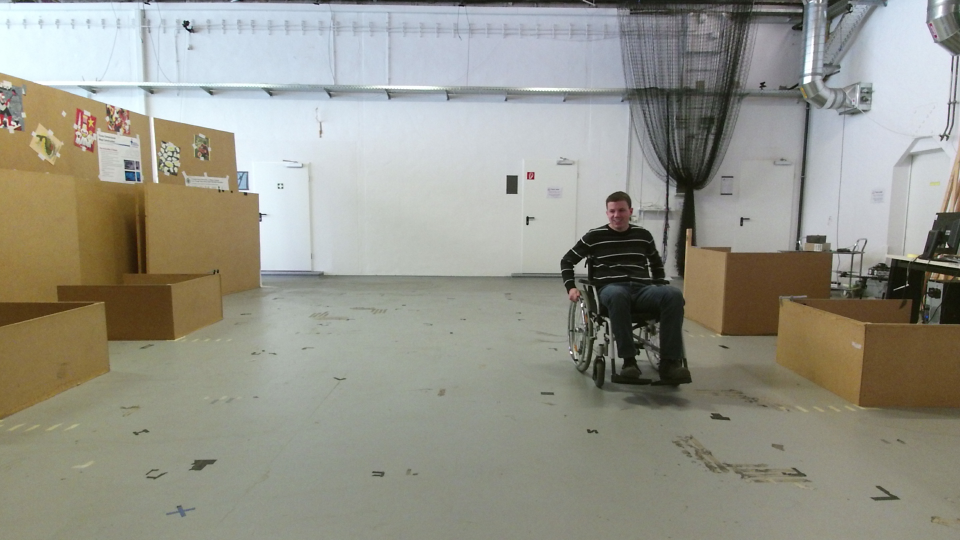wheelchair: (553, 187, 696, 391)
